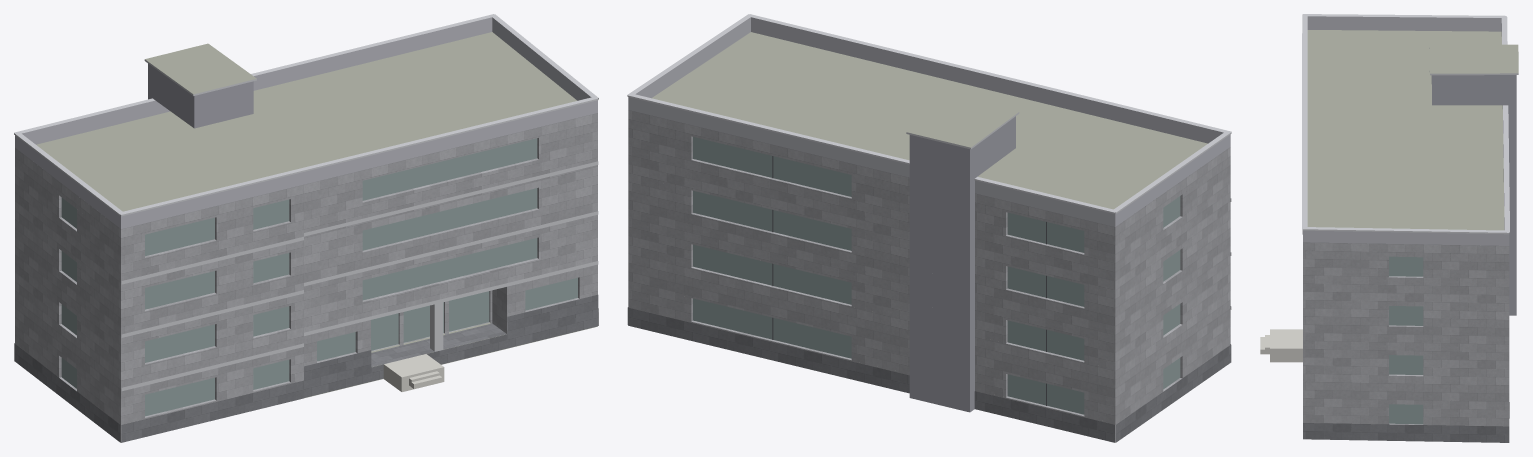
3 renders of one model, left to right at view 1: azimuth 30°, elevation 25°; view 2: azimuth 150°, elevation 25°; view 3: azimuth 270°, elevation 25°, orthographic. The views are drawn at different scales.
Parts seen in each view (by area): view 1: b66b__wall, b66b__roof, b66b__glass, b66b__parapet, b66b__base, b66b__trim, b66b__wall2, b66b__entranceStair, b66b__column; view 2: b66b__wall, b66b__roof, b66b__glass, b66b__wall2, b66b__parapet, b66b__base, b66b__trim; view 3: b66b__roof, b66b__wall, b66b__parapet, b66b__wall2, b66b__trim, b66b__base, b66b__glass, b66b__entranceStair.
Boxes of the visible parts, bbox=[...] form: b66b__wall: bbox=[15, 113, 597, 442]; b66b__roof: bbox=[36, 32, 596, 398]; b66b__glass: bbox=[61, 138, 577, 416]; b66b__parapet: bbox=[15, 17, 597, 228]; b66b__base: bbox=[14, 294, 598, 442]; b66b__trim: bbox=[14, 14, 598, 391]; b66b__wall2: bbox=[148, 63, 253, 128]; b66b__entranceStair: bbox=[383, 354, 444, 391]; b66b__column: bbox=[430, 302, 443, 351]; b66b__wall: bbox=[628, 110, 1230, 442]; b66b__roof: bbox=[652, 32, 1207, 442]; b66b__glass: bbox=[693, 137, 1180, 414]; b66b__wall2: bbox=[909, 116, 1015, 412]; b66b__parapet: bbox=[628, 17, 1230, 226]; b66b__base: bbox=[627, 307, 1231, 442]; b66b__trim: bbox=[627, 14, 1231, 309]; b66b__roof: bbox=[1307, 30, 1518, 230]; b66b__wall: bbox=[1303, 242, 1509, 426]; b66b__parapet: bbox=[1303, 16, 1509, 245]; b66b__wall2: bbox=[1431, 75, 1516, 315]; b66b__trim: bbox=[1302, 14, 1518, 234]; b66b__base: bbox=[1302, 229, 1509, 442]; b66b__glass: bbox=[1389, 256, 1423, 424]; b66b__entranceStair: bbox=[1260, 329, 1302, 362].
Size of the model in its own units: 34.36 by 17.82 by 17.16.
11 materials, 2 textured.
